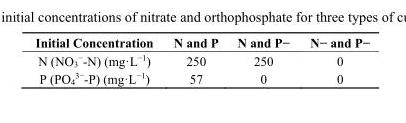table: (34, 34, 369, 85)
table column: (34, 34, 162, 85), (227, 34, 299, 85), (299, 34, 369, 85), (162, 34, 227, 85)
table column header: (34, 34, 369, 50)
table row: (34, 50, 369, 69), (34, 34, 369, 50), (34, 69, 369, 85)
